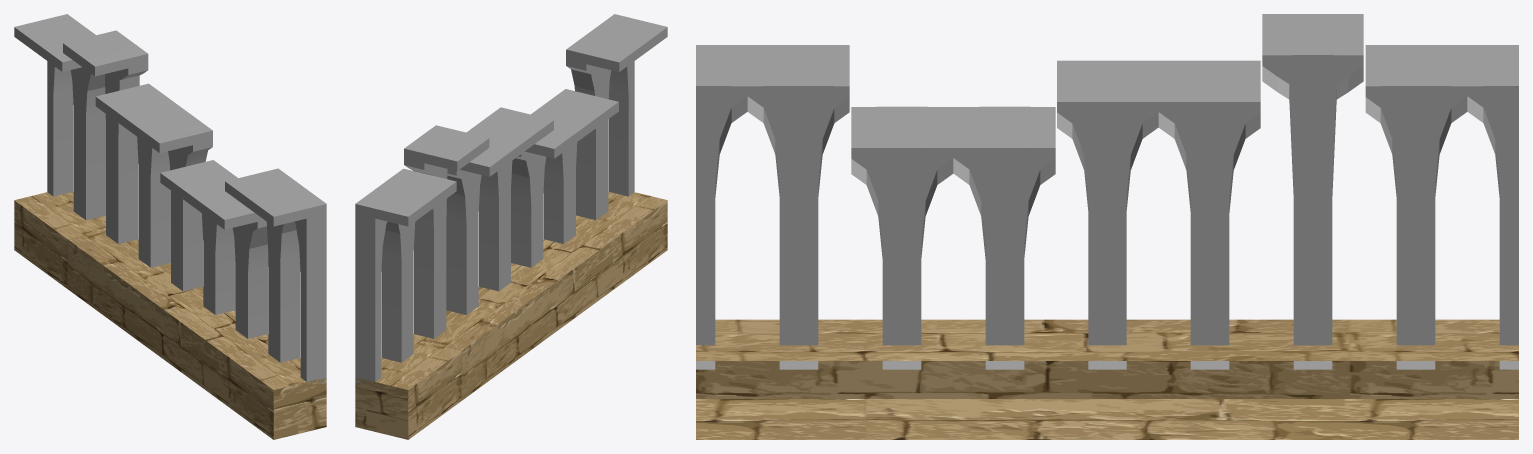
Rendered from narrow_c2_uneven.fbx.
3 renders of one model, left to right at view 1: azimuth 30°, elevation 25°; view 2: azimuth 150°, elevation 25°; view 3: azimuth 270°, elevation 25°, orthographic. The views are drawn at different scales.
Parts seen in each view (by area): view 1: polySurface2148; view 2: polySurface2148; view 3: polySurface2148.
Boxes of the visible parts, <box> form: polySurface2148: <box>14,14,326,439</box>; polySurface2148: <box>355,14,667,439</box>; polySurface2148: <box>696,14,1518,439</box>.
Bounding box in the file's own units: 37.92 × 165 × 320.
